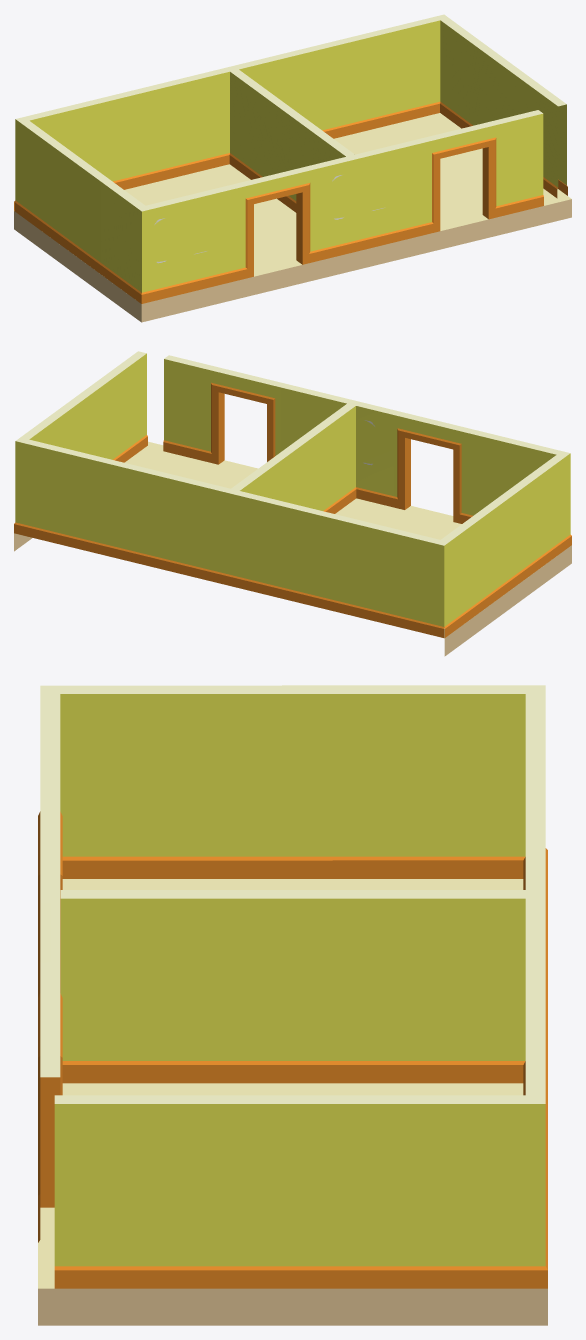
File: Manager_Room.fbx
The picture shows the model from 3 angles, top to bottom: view 1: azimuth 30°, elevation 25°; view 2: azimuth 150°, elevation 25°; view 3: azimuth 270°, elevation 25°; orthographic projection. The views are drawn at different scales.
Visible parts, largest first — view 1: Manager_Room; view 2: Manager_Room; view 3: Manager_Room.
Boxes of the visible parts, left/top/right/bottom form: Manager_Room: left=14, top=14, right=571, bottom=322; Manager_Room: left=14, top=351, right=571, bottom=656; Manager_Room: left=38, top=685, right=547, bottom=1325.
Size of the model in its own units: 579 by 142 by 297.
